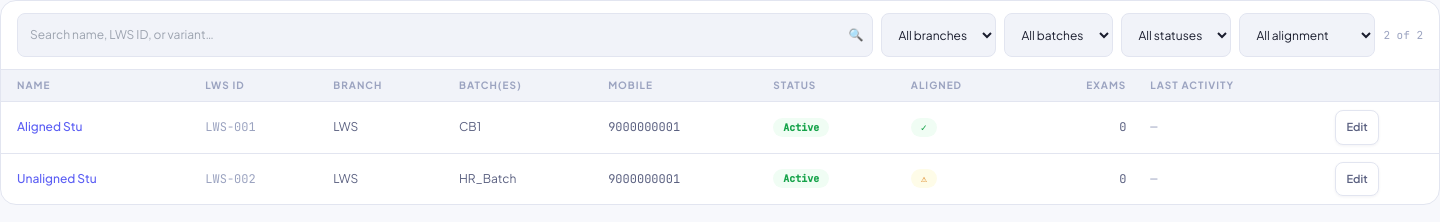
Scenario: StudentsTable — alignment column › alignment filter "aligned" shows only aligned students
The width and height of the screenshot is (1440, 222).
Select "✓ Aligned" in the dropdown named "alignment" at (1307, 35), box [1239,13,1375,57]
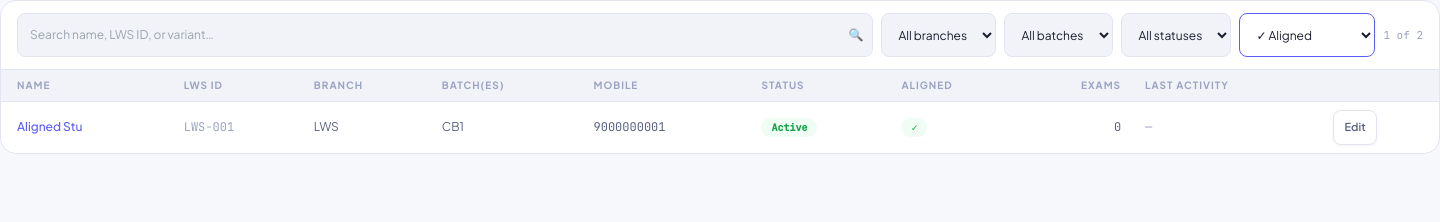
Expected: the button "Aligned Stu" is shown, [17,118,83,136]
Now the button "Unaligned Stu" is gone
